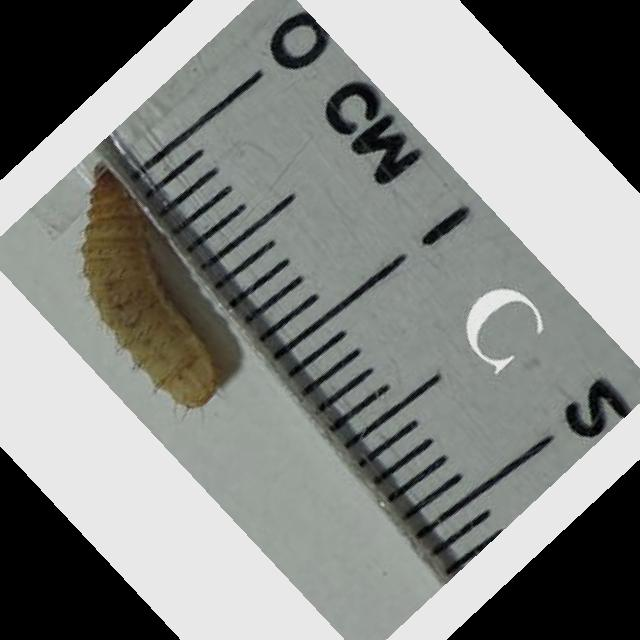Maggot: (83, 166, 212, 419)
